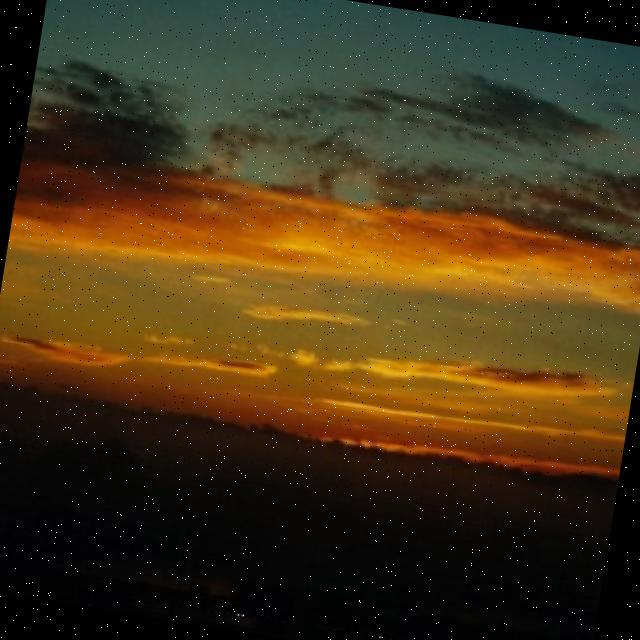As: (1, 14, 640, 457)
